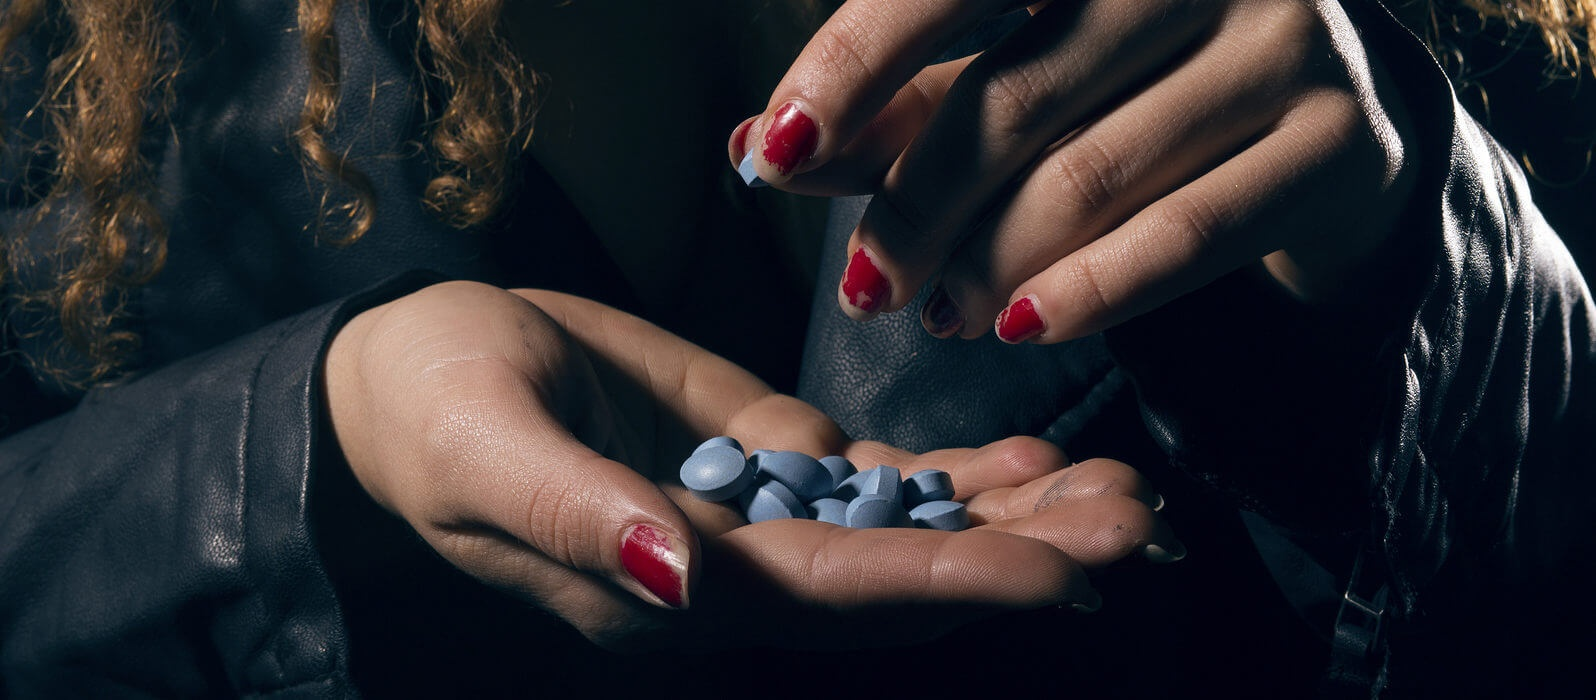pills: (674, 441, 747, 499), (764, 448, 836, 499), (900, 499, 966, 534)
